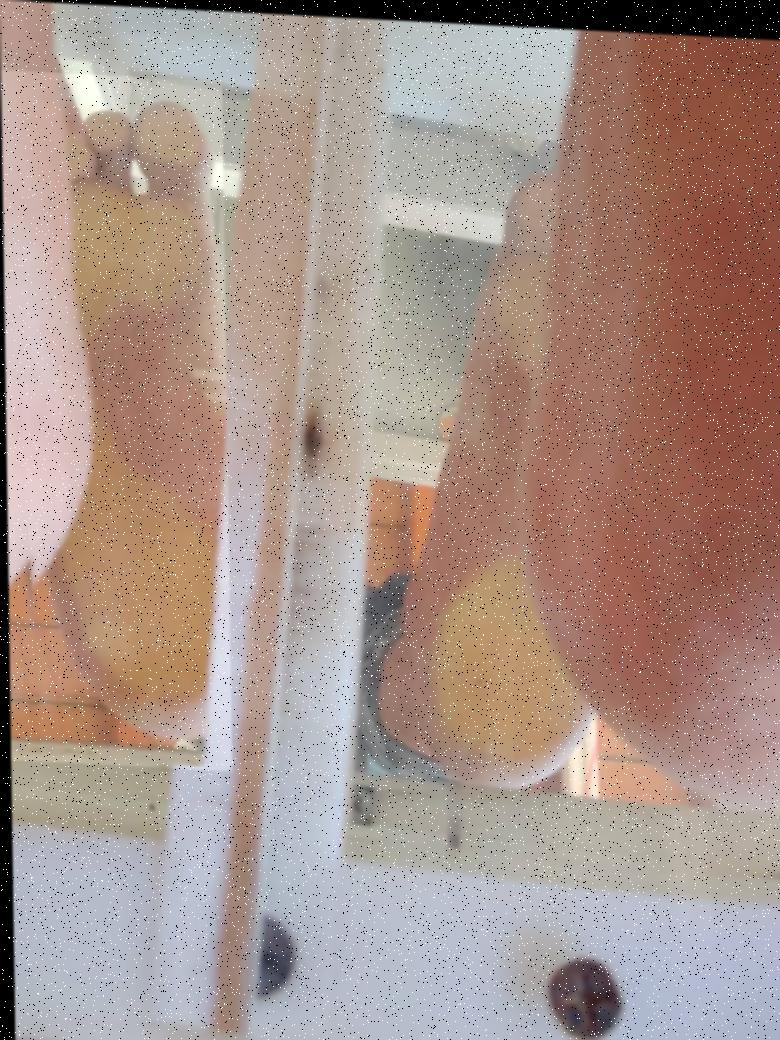Present: (1, 70, 230, 769)
